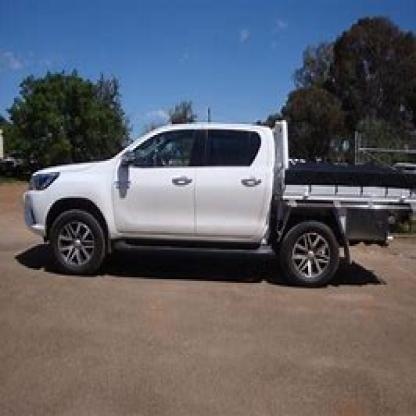light_vehicle: (20, 109, 414, 298)
